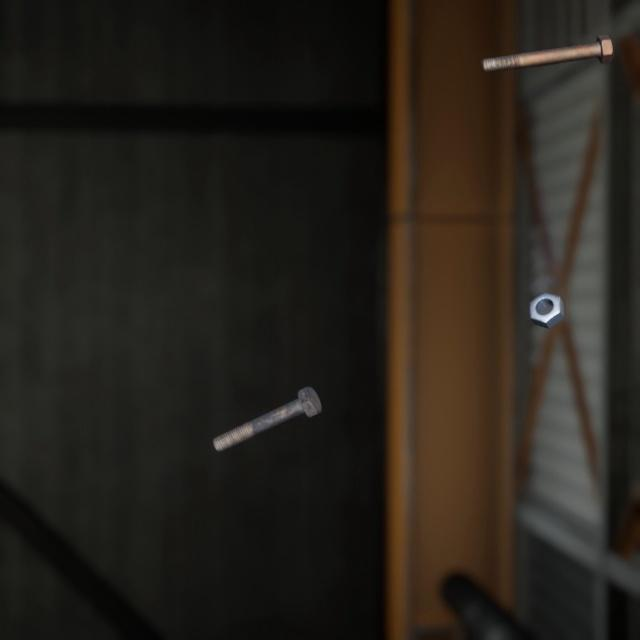bolt: (208, 361, 326, 436), (476, 20, 617, 67)
nut: (525, 270, 568, 315)
